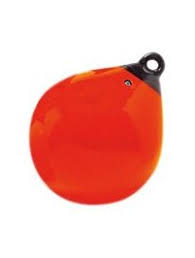buoy: (25, 67, 164, 202)
